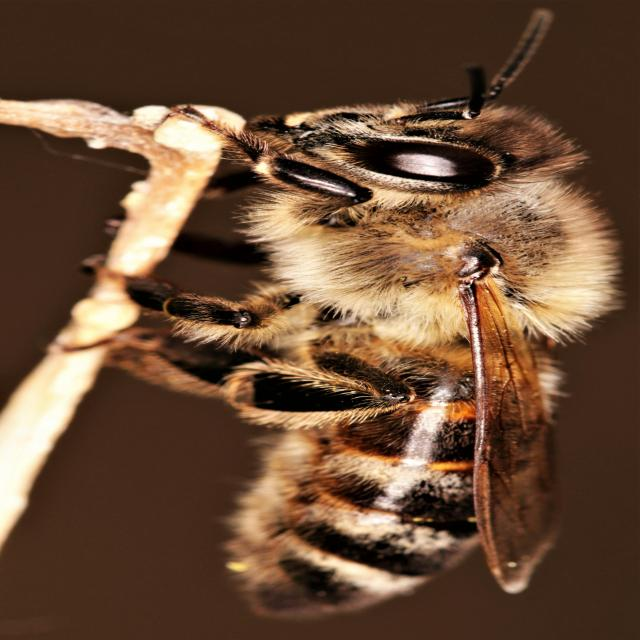Braunsapis: (149, 0, 596, 623)
